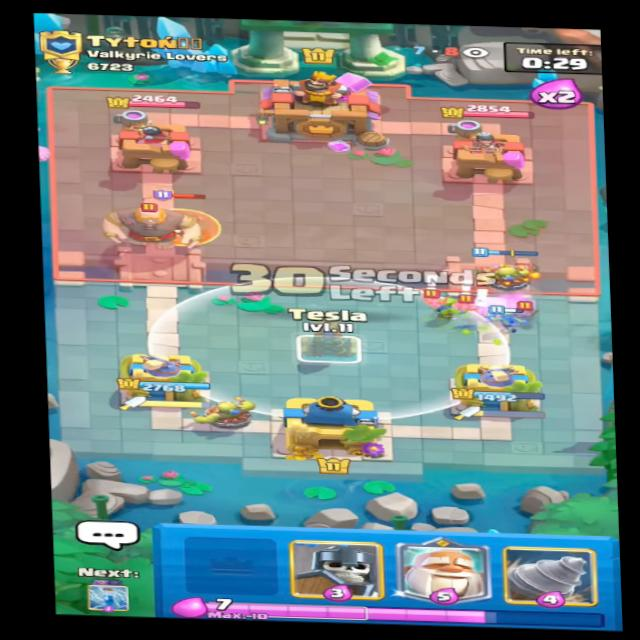bats: (416, 285, 448, 310), (452, 294, 484, 316), (516, 302, 540, 320)
evo-wizard: (153, 189, 227, 242)
giant: (100, 197, 208, 249)
